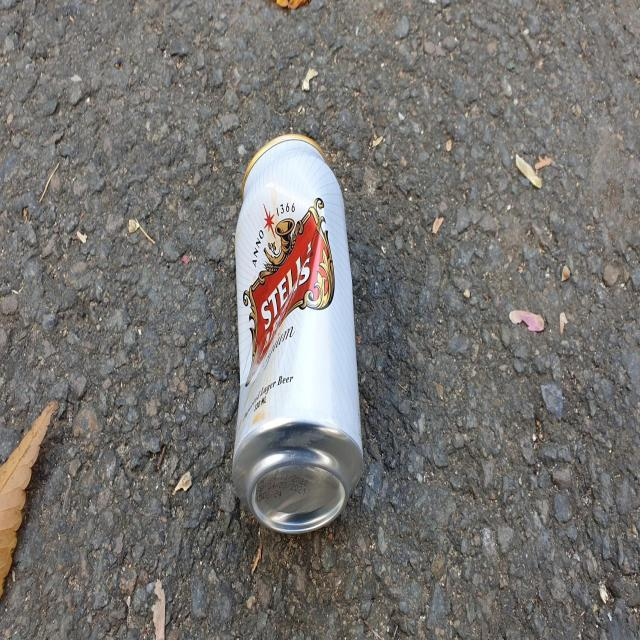can: (232, 133, 363, 534)
